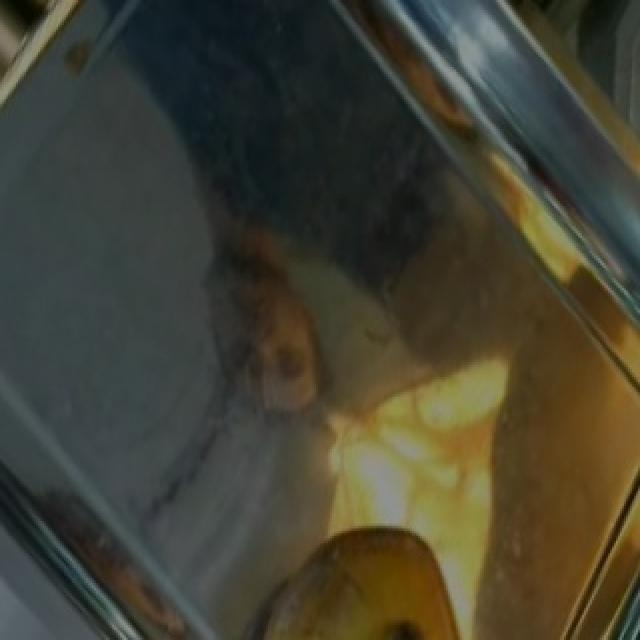fruit: (220, 496, 484, 640)
